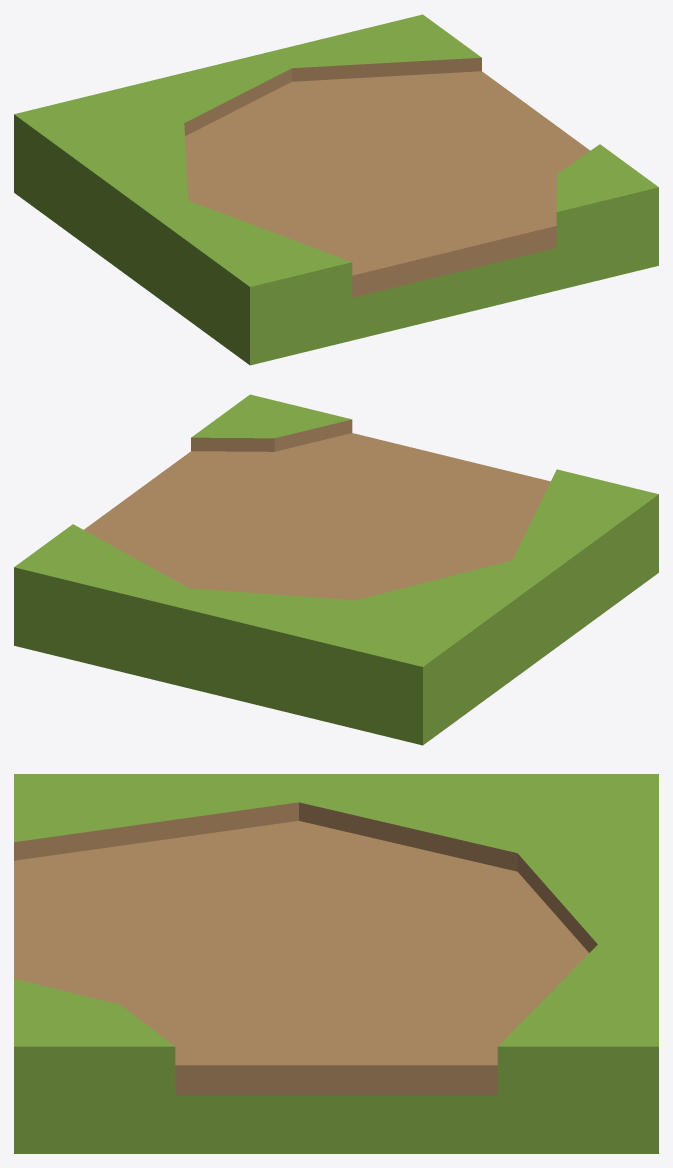
The model's file is tile187.dae.
The picture shows the model from 3 angles, top to bottom: view 1: azimuth 30°, elevation 25°; view 2: azimuth 150°, elevation 25°; view 3: azimuth 270°, elevation 25°; orthographic projection. The views are drawn at different scales.
Parts seen in each view (by area): view 1: tile187; view 2: tile187; view 3: tile187.
Boxes of the visible parts, x1,y1,x2,y2 form: tile187: (14, 14, 658, 365); tile187: (14, 394, 658, 745); tile187: (14, 774, 658, 1153).
Size of the model in its own units: 1 by 0.1833 by 1.
